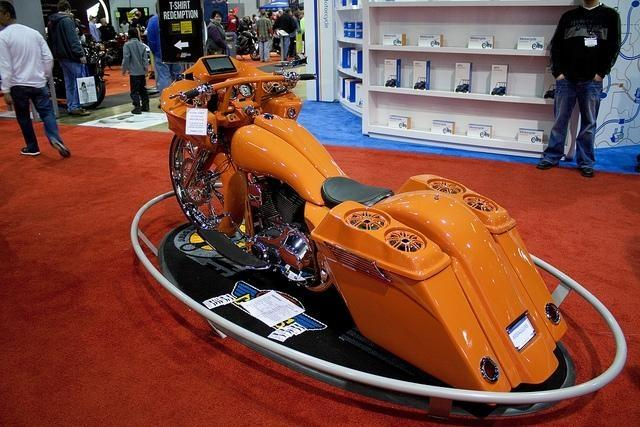motorcycle: (160, 51, 571, 388), (82, 44, 115, 110)
